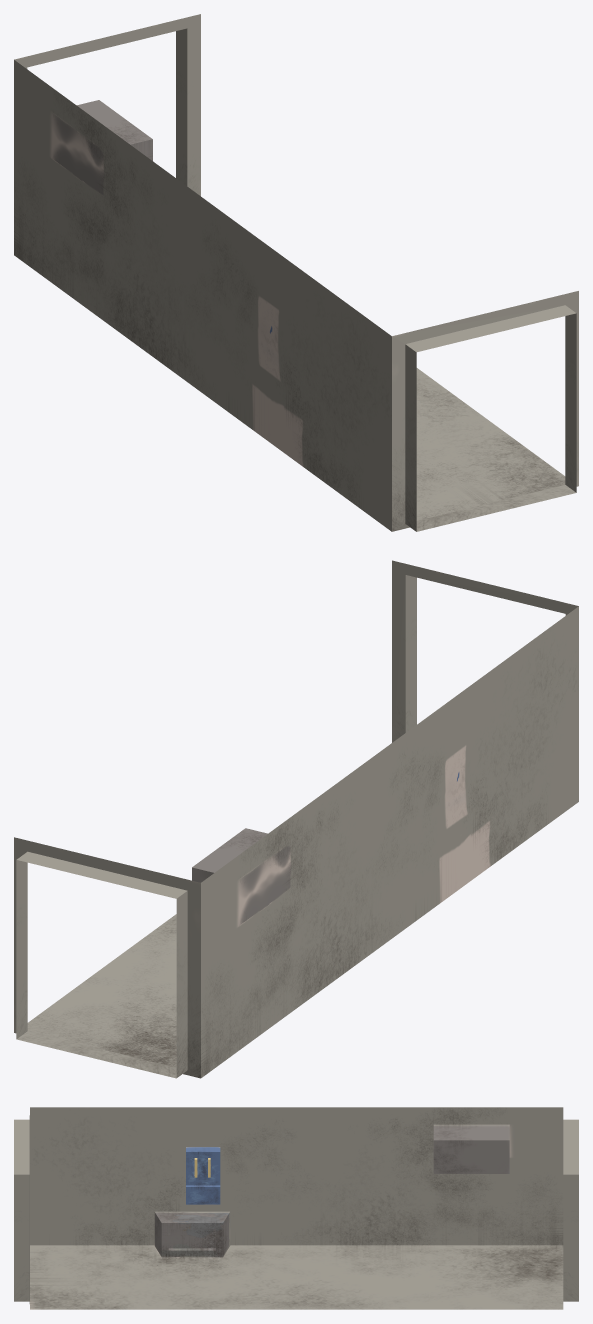
File: room One Fix.FBX
3 renders of one model, top to bottom at view 1: azimuth 30°, elevation 25°; view 2: azimuth 150°, elevation 25°; view 3: azimuth 270°, elevation 25°, orthographic. The views are drawn at different scales.
Parts seen in each view (by area): view 1: room, prop2; view 2: room, prop2; view 3: room, prop, prop2.
Boxes of the visible parts, x1,y1,x2,y2 form: room: (14, 14, 578, 531); prop2: (77, 100, 152, 160); room: (14, 560, 578, 1078); prop2: (192, 828, 267, 882); room: (14, 1107, 578, 1309); prop: (154, 1147, 230, 1257); prop2: (433, 1124, 509, 1173).
Size of the model in its own units: 20 by 20 by 74.19.
